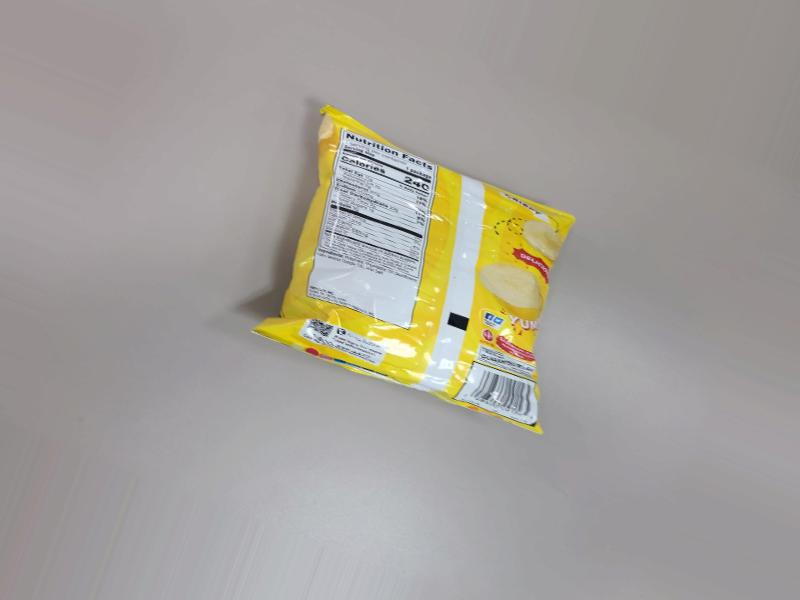lays: (257, 122, 572, 437)
